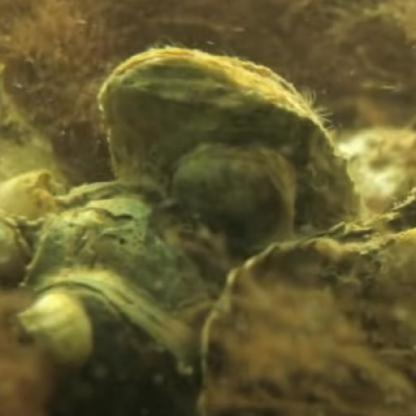3: (36, 272, 193, 362)
Oyster-Closed: (101, 47, 363, 233), (170, 146, 297, 249)
Oyster-Open: (199, 234, 416, 416)
